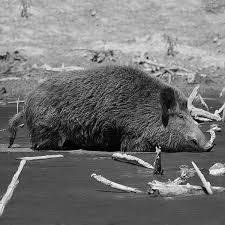wildboar: (5, 62, 217, 153)
